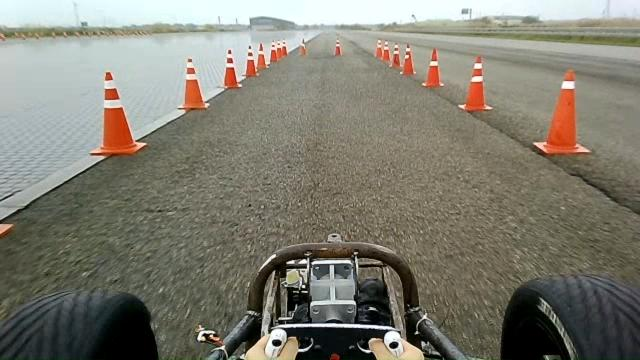red cone: (532, 68, 592, 155), (89, 70, 148, 156), (458, 55, 493, 112), (177, 57, 210, 110), (219, 48, 242, 89), (422, 47, 444, 88), (242, 44, 259, 77), (400, 42, 416, 76), (256, 42, 269, 70), (388, 41, 400, 68)
